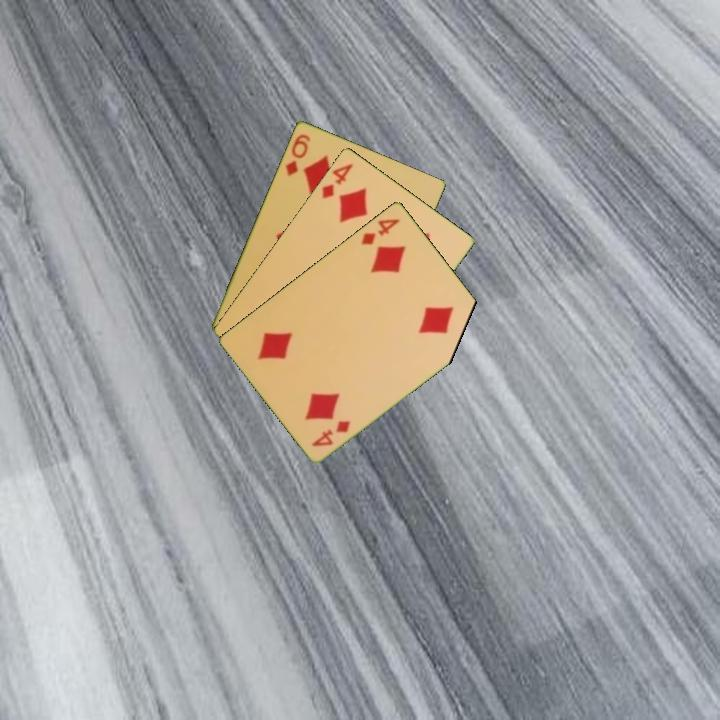4d: (318, 159, 356, 201), (357, 215, 403, 248), (308, 416, 353, 449)
6d: (282, 130, 314, 179)
